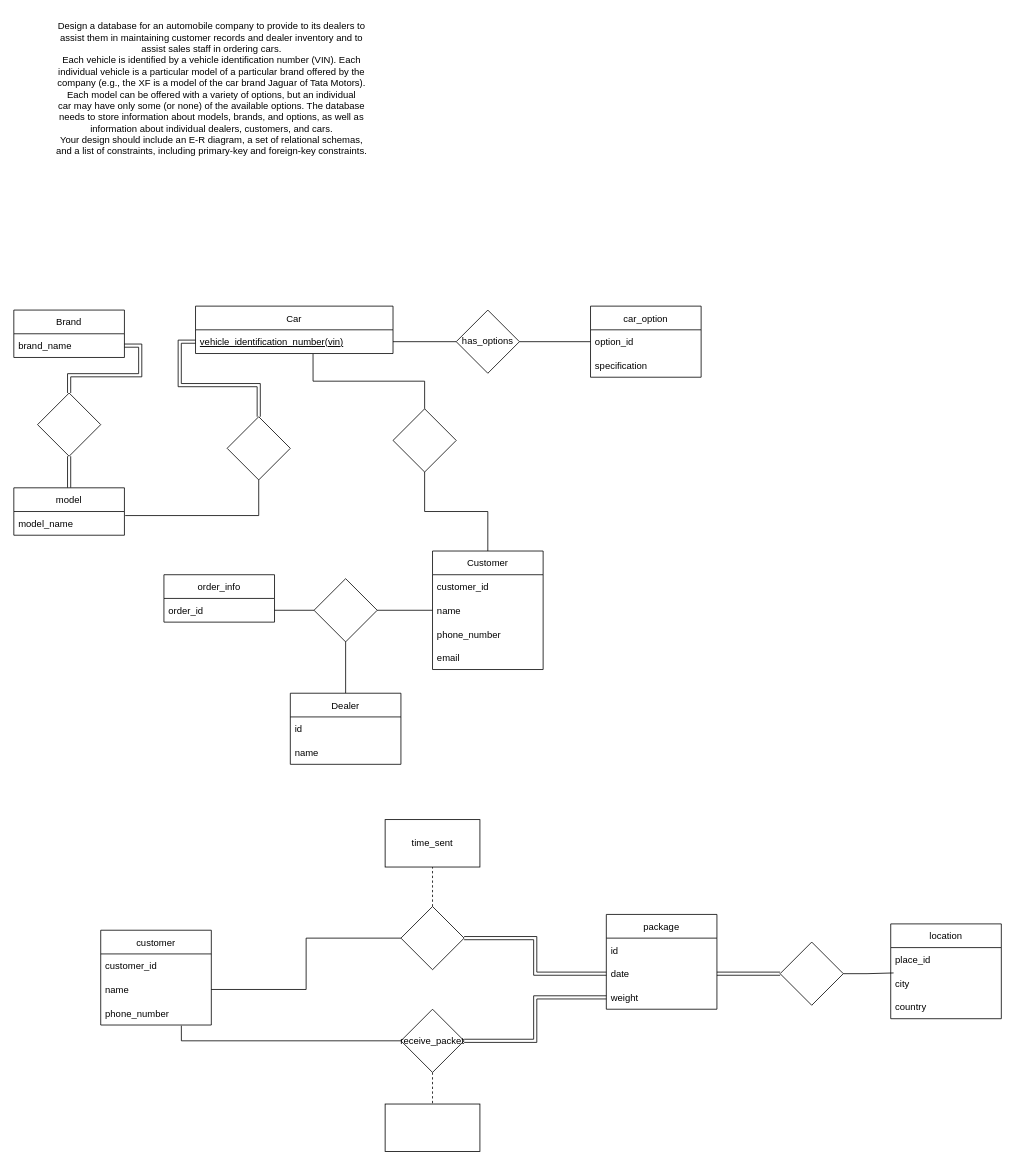
Some shapes in this 1015 by 1165 pixel diagram are drawn without their labels. Here are the shapes that lost their labels. From the top down, the centre of each, then its label:
At [69,424]: "has_model".
At [424,440]: "owned_by".
At [258,448]: "is_car".
At [345,610]: "orders".
At [432,938]: "send_packet".
At [811,973]: "has_gone_ through".
At [432,1127]: "time_received".
